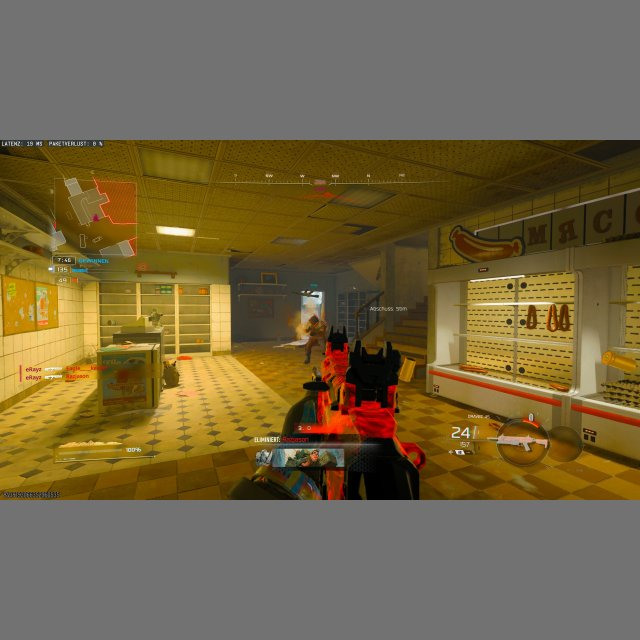head: (309, 314, 318, 323)
player: (302, 313, 327, 365)
